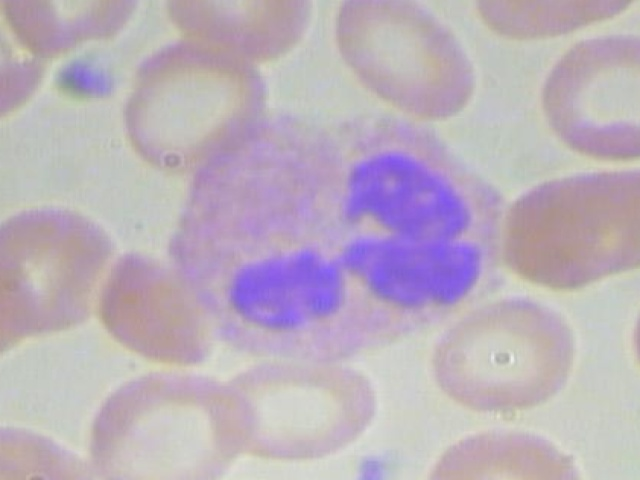Platelets: (47, 45, 134, 109), (341, 446, 403, 480)
RBC: (114, 29, 280, 180), (61, 359, 250, 480), (202, 350, 388, 468), (0, 184, 131, 349), (429, 295, 599, 418), (499, 151, 640, 297), (322, 0, 478, 130), (535, 30, 640, 170), (417, 426, 599, 480), (0, 0, 70, 132), (0, 408, 99, 480), (0, 222, 34, 371), (629, 271, 640, 399)
WBC: (135, 105, 536, 372)
